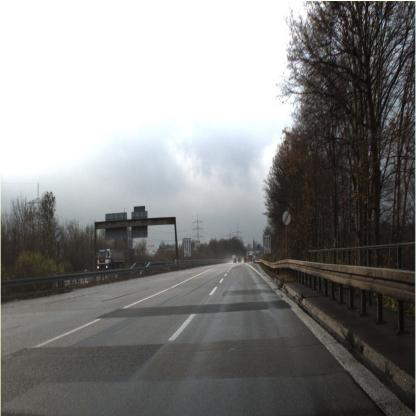restriction ends (overtaking (trucks)): (282, 209, 291, 226), (53, 228, 62, 242)
